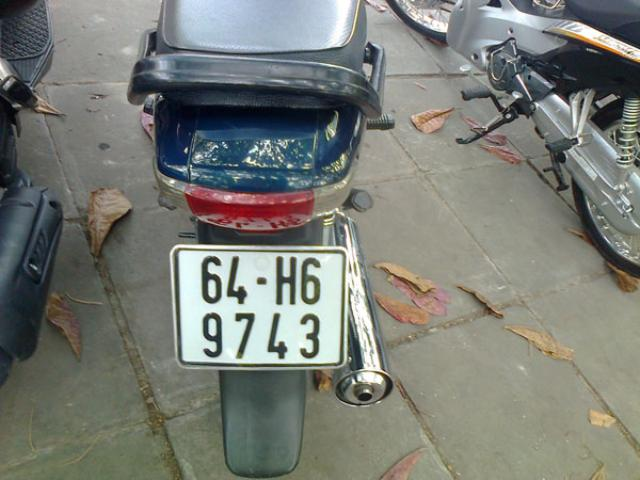plate: (174, 248, 344, 366)
